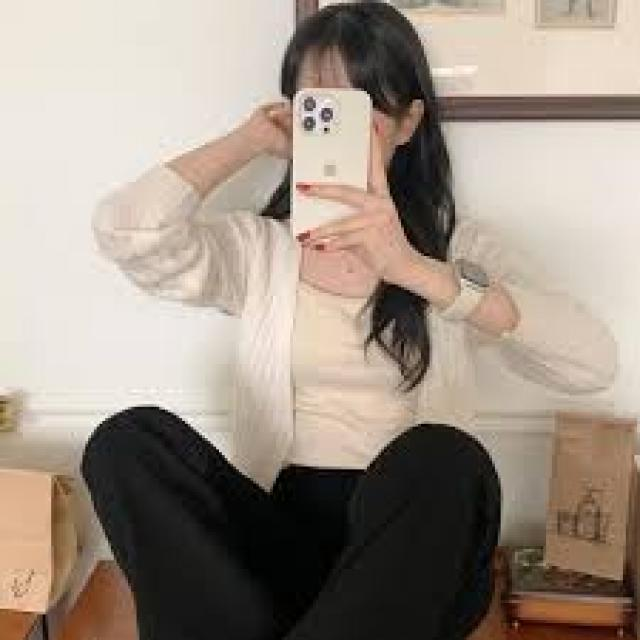Phone: (290, 83, 380, 247)
